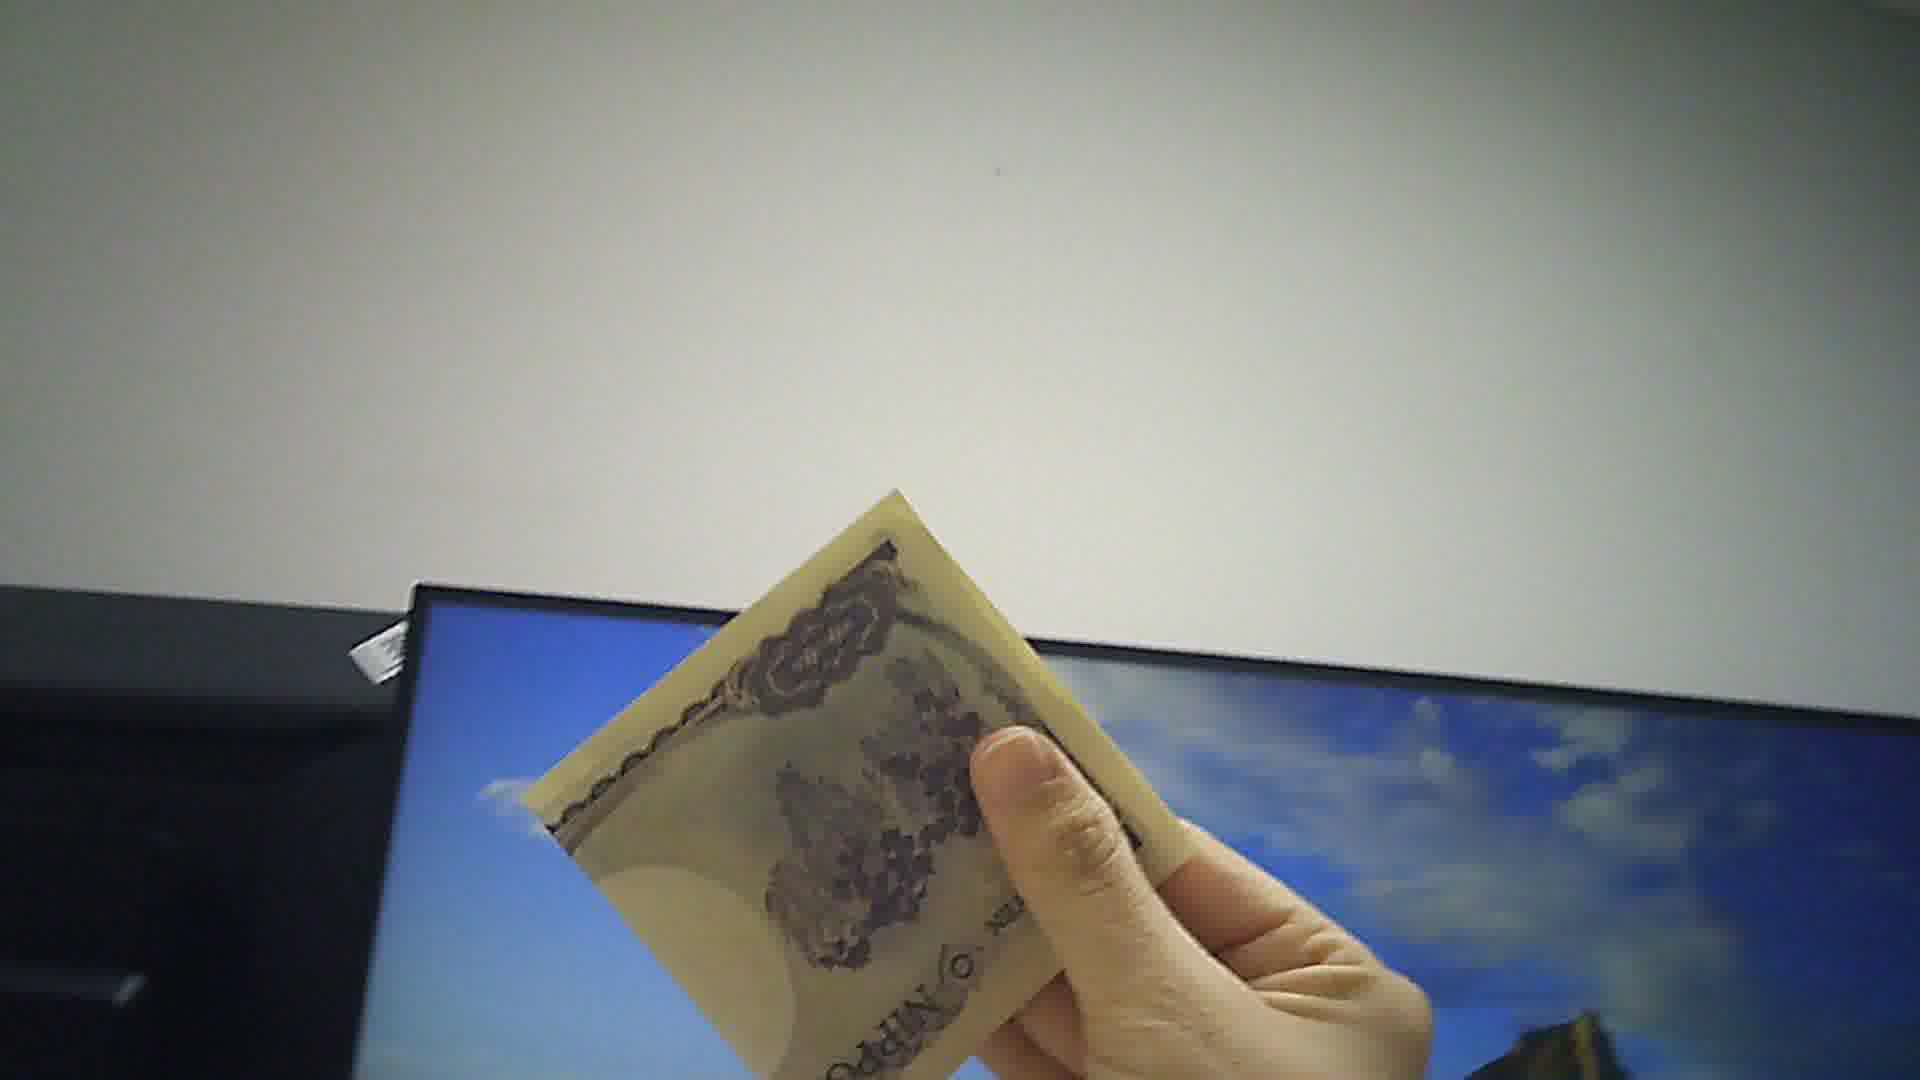5,000 Yen: (498, 487, 1185, 1076)
